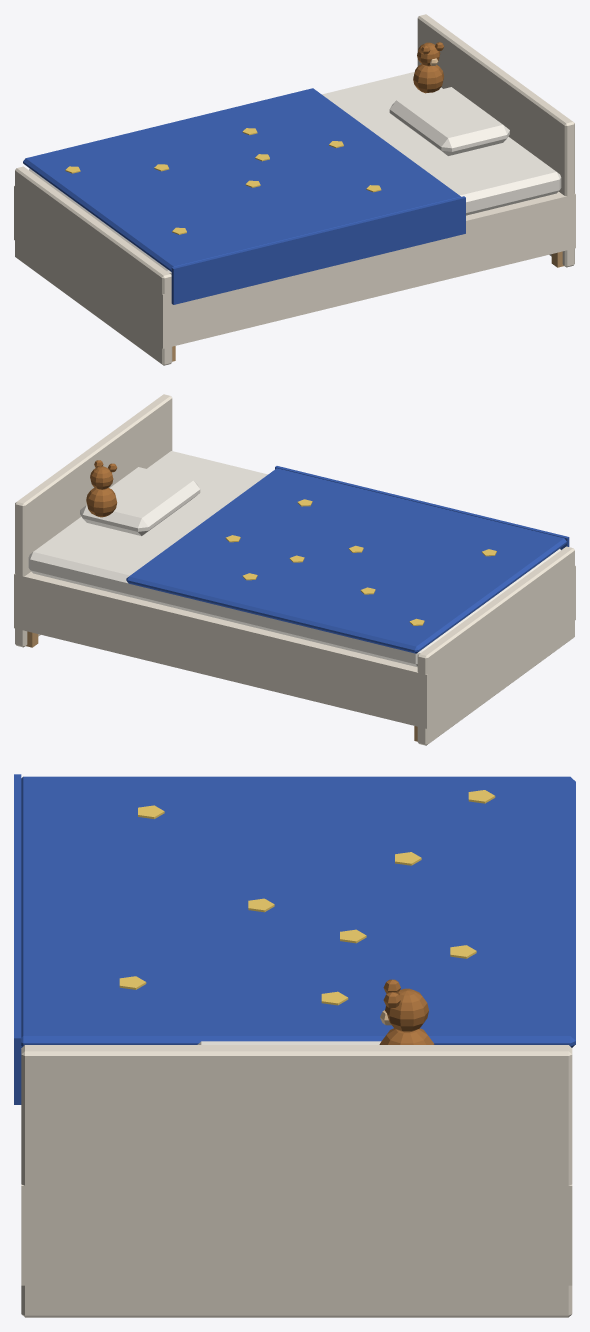
The model's file is bed_kid.glb.
3 renders of one model, top to bottom at view 1: azimuth 30°, elevation 25°; view 2: azimuth 150°, elevation 25°; view 3: azimuth 270°, elevation 25°, orthographic. The views are drawn at different scales.
Parts seen in each view (by area): view 1: bed_kid, blanket, pillow, teddy; view 2: bed_kid, blanket, pillow, teddy; view 3: bed_kid, blanket, teddy, pillow.
Boxes of the visible parts, <box> form: bed_kid: <box>14,14,575,365</box>; blanket: <box>23,88,465,304</box>; pillow: <box>389,87,509,155</box>; teddy: <box>413,42,444,93</box>; bed_kid: <box>14,394,575,745</box>; blanket: <box>126,466,569,653</box>; pillow: <box>80,467,200,535</box>; teddy: <box>86,460,117,517</box>; bed_kid: <box>21,1045,572,1317</box>; blanket: <box>14,774,575,1104</box>; teddy: <box>379,979,434,1044</box>; pillow: <box>197,1041,381,1044</box>.
Bounding box in the file's own units: 2.4 × 0.884 × 1.53.
